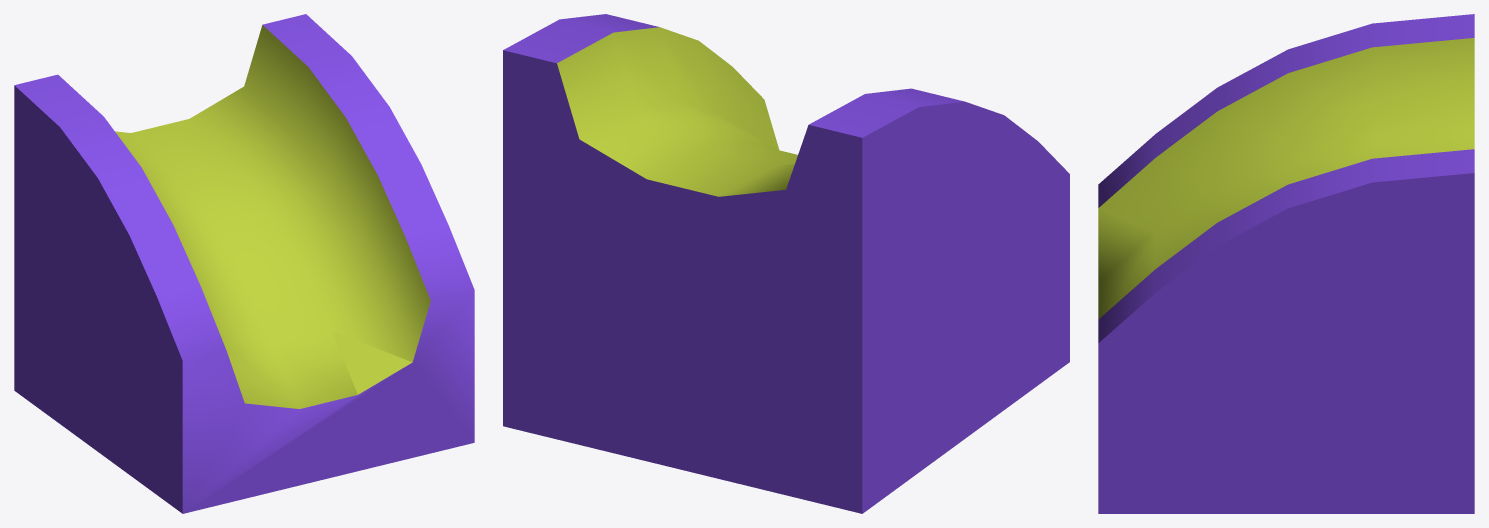
File: rampEnd_solid_C-col.dae
The picture shows the model from 3 angles, left to right: view 1: azimuth 30°, elevation 25°; view 2: azimuth 150°, elevation 25°; view 3: azimuth 270°, elevation 25°; orthographic projection. The views are drawn at different scales.
Parts seen in each view (by area): view 1: rampEnd_solid_C-col; view 2: rampEnd_solid_C-col; view 3: rampEnd_solid_C-col.
Part boxes in pixels (box(x1,y1,x2,y2)): rampEnd_solid_C-col: box(14, 14, 474, 513); rampEnd_solid_C-col: box(503, 14, 1069, 513); rampEnd_solid_C-col: box(1098, 14, 1474, 513).
Size of the model in its own units: 1 by 1 by 1.
